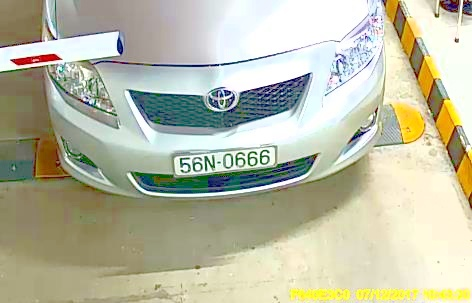plate: (167, 147, 279, 178)
